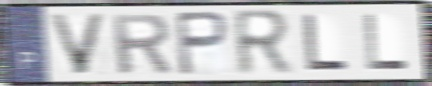L: (302, 12, 351, 73), (362, 12, 411, 72)
P: (173, 9, 231, 78)
R: (230, 7, 295, 79), (108, 12, 174, 76)
V: (46, 12, 109, 77)
